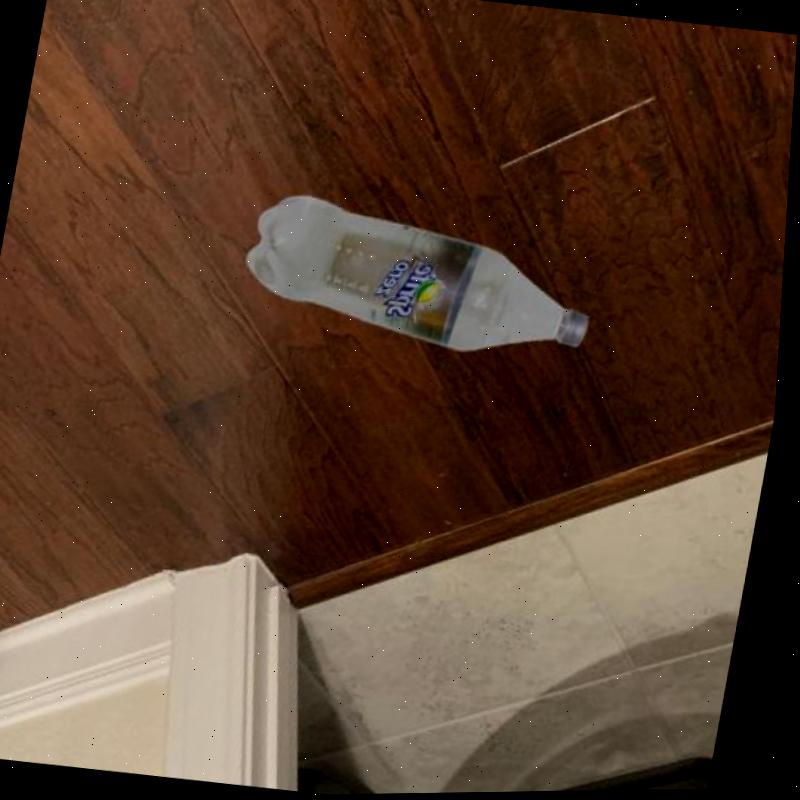botella: (237, 180, 615, 374)
